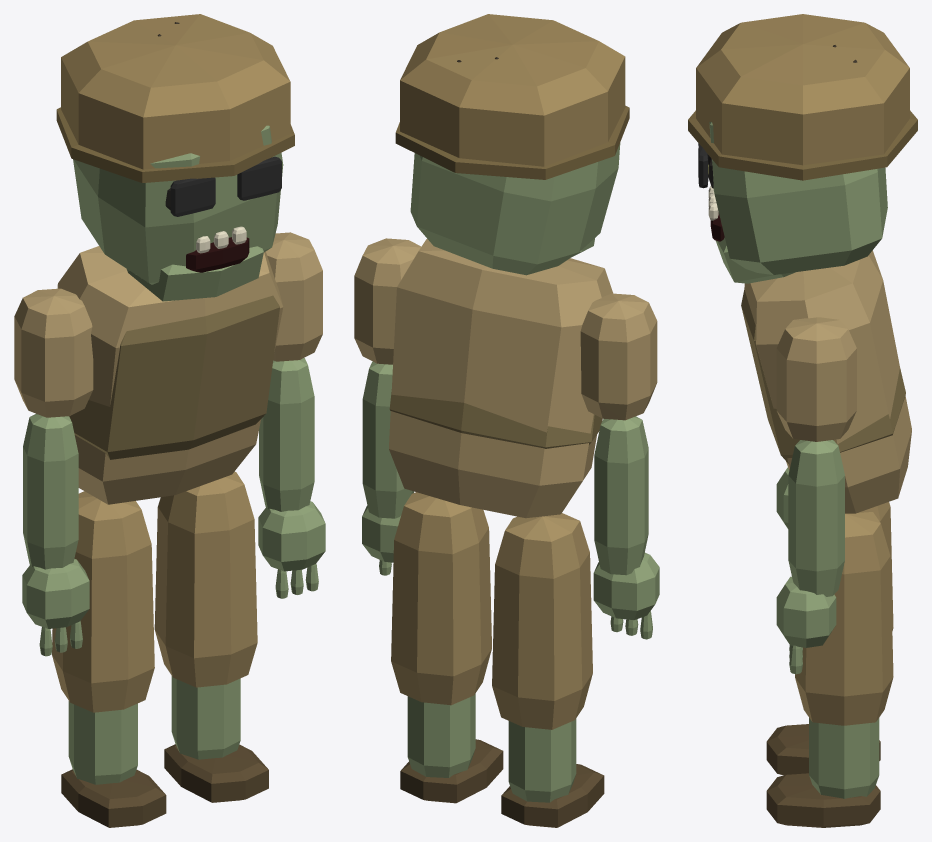
Rendered from mon-soldier-2.glb.
3 views of the same model, side by side, from view 1: azimuth 30°, elevation 25°; view 2: azimuth 150°, elevation 25°; view 3: azimuth 270°, elevation 25° (orthographic).
Parts seen in each view (by area): view 1: head, torso, leg-left, leg-right, arm-right, arm-left; view 2: head, torso, leg-right, leg-left, arm-right, arm-left; view 3: head, leg-left, arm-left, torso, leg-right, arm-right.
Boxes of the visible parts, x1=… form: head: x1=56, y1=14, x2=294, y2=301; torso: x1=57, y1=246, x2=283, y2=504; leg-left: x1=154, y1=471, x2=268, y2=802; leg-right: x1=52, y1=491, x2=166, y2=827; arm-right: x1=14, y1=288, x2=93, y2=656; arm-left: x1=258, y1=232, x2=325, y2=598; head: x1=395, y1=14, x2=629, y2=275; torso: x1=389, y1=239, x2=613, y2=518; leg-right: x1=492, y1=513, x2=604, y2=827; leg-left: x1=391, y1=492, x2=503, y2=803; arm-right: x1=580, y1=293, x2=659, y2=639; arm-left: x1=354, y1=238, x2=421, y2=575; head: x1=688, y1=14, x2=917, y2=283; leg-left: x1=766, y1=511, x2=893, y2=827; arm-left: x1=776, y1=317, x2=856, y2=674; torso: x1=741, y1=250, x2=911, y2=513; leg-right: x1=766, y1=502, x2=893, y2=775; arm-right: x1=776, y1=467, x2=789, y2=528.
Bounding box in the file's own units: 0.9745 × 2.4 × 0.6698.
